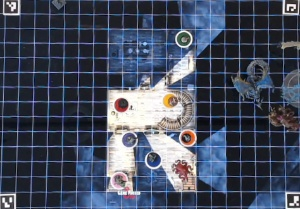green: (172, 27, 194, 49)
orange: (178, 128, 197, 148)
pink: (110, 168, 129, 190)
red: (112, 96, 131, 117)
violet: (143, 150, 162, 168), (120, 131, 138, 150)
yellow: (159, 91, 180, 111)
